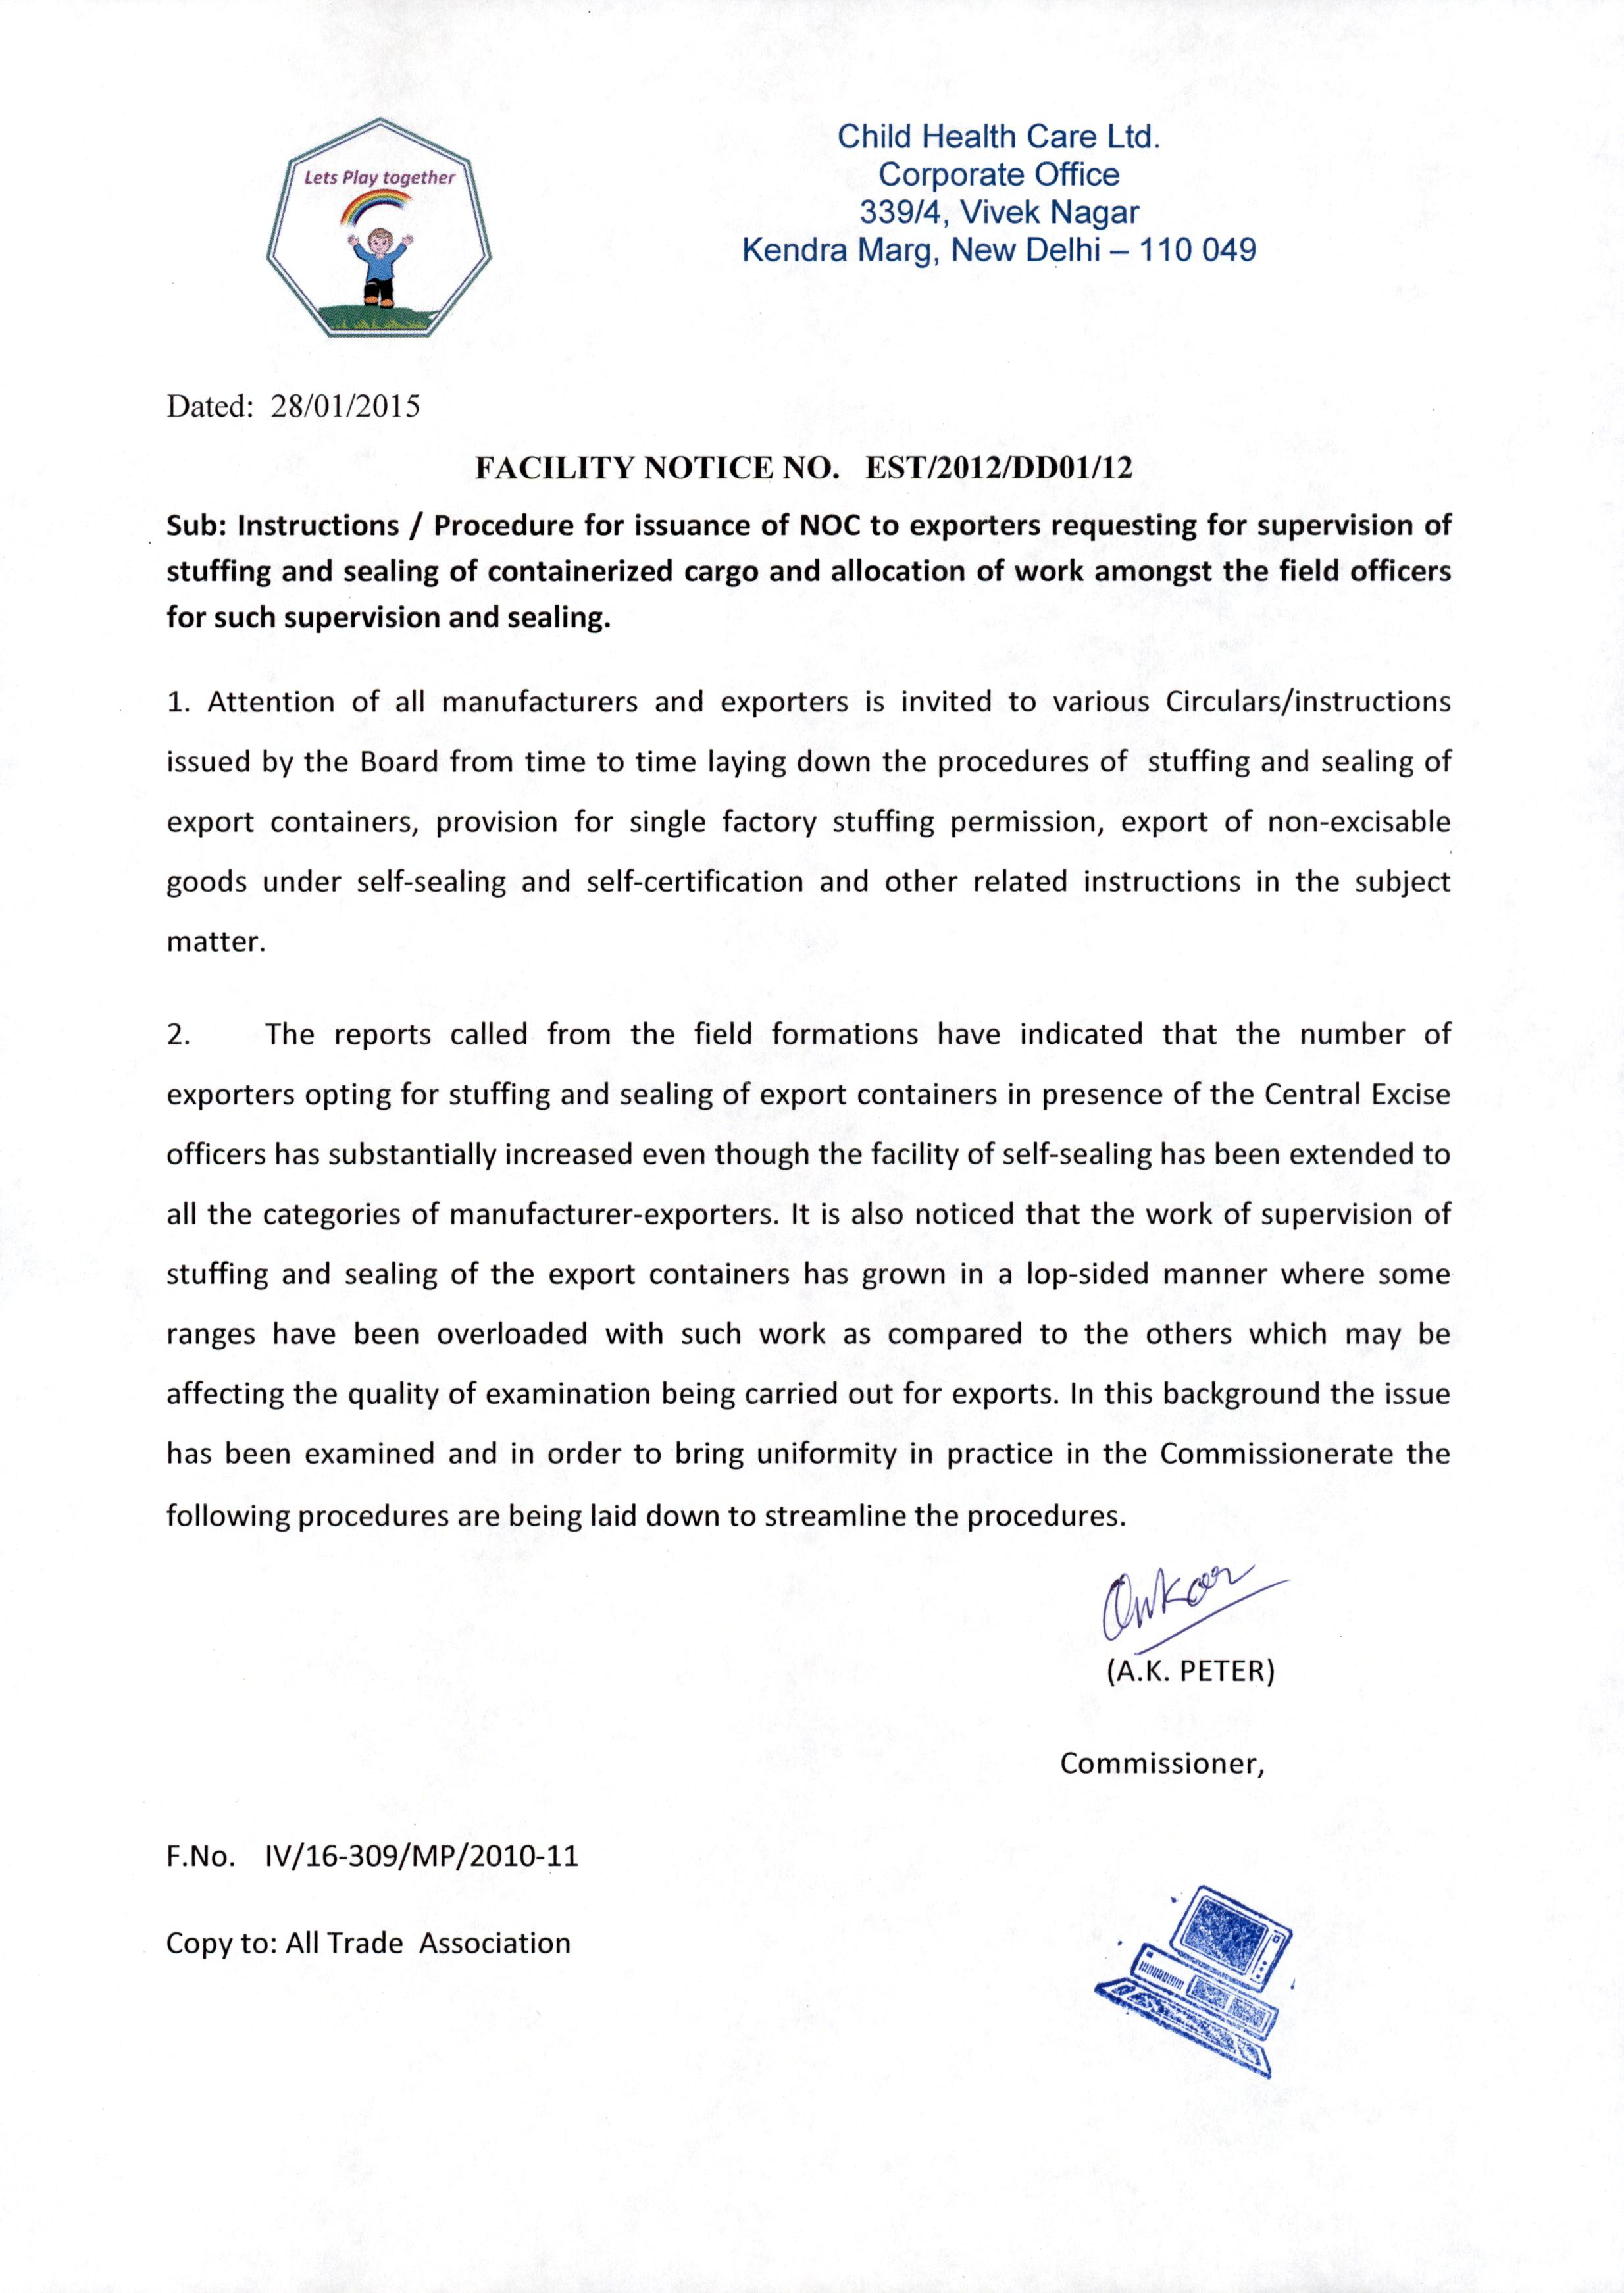Signature: (1095, 1550, 1297, 1659)
